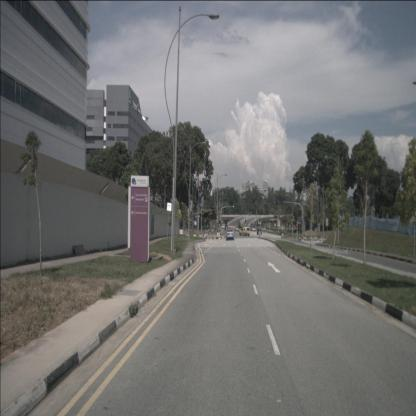vehicle-bus-rigid: (250, 222, 256, 231)
vehicle-car: (226, 228, 234, 241), (239, 227, 250, 236), (257, 228, 262, 236)
